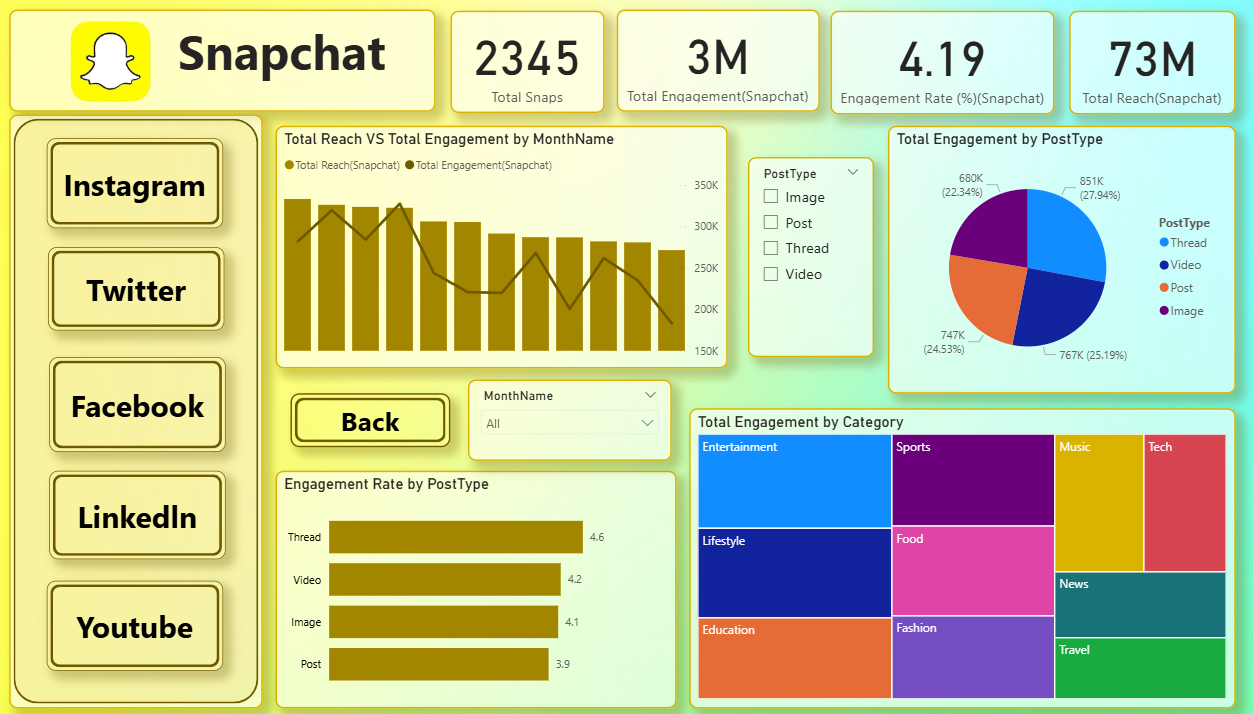

The dashboard page shown, as its layout file describes it:
{"tool":"powerbi","page":{"name":"Snapchat","canvas":[1400,800],"ordinal":3},"visuals":[{"type":"textbox","box":[12.3,13.7,474,113.7],"z":0},{"type":"image","box":[0,0,249.3,142.5],"z":1000},{"type":"card","fields":{"Values":["Snapchat_Data.Total Snaps"]},"box":[503.4,15.3,171.2,113.6],"z":2000},{"type":"card","fields":{"Values":["Snapchat_Data.Total Engagement(Snapchat)"]},"box":[688.1,13.6,225.4,113.6],"z":3000},{"type":"card","fields":{"Values":["Snapchat_Data.Engagement Rate (%)(Snapchat)"]},"box":[925.4,15.3,249.2,115.3],"z":4000},{"type":"card","fields":{"Values":["Snapchat_Data.Total Reach(Snapchat)"]},"box":[1189.8,15.3,184.7,115.3],"z":5000},{"type":"pieChart","title":"Total Engagement by PostType","fields":{"Category":["Snapchat_Data.PostType"],"Y":["Snapchat_Data.Total Engagement(Snapchat)"]},"box":[988.9,143.1,386.1,297.2],"z":6000},{"type":"treemap","title":"Total Engagement by Category","fields":{"Group":["Snapchat_Data.Category"],"Values":["Snapchat_Data.Total Engagement(Snapchat)"]},"box":[768.1,456.9,606.9,333.3],"z":7000},{"type":"lineClusteredColumnComboChart","title":"Total Reach VS Total Engagement by MonthName","fields":{"Category":["Snapchat_Data.MonthName"],"Y":["Snapchat_Data.Total Reach(Snapchat)"],"Y2":["Snapchat_Data.Total Engagement(Snapchat)"]},"box":[308.3,143.1,502.8,269.4],"z":8000},{"type":"clusteredBarChart","title":"Engagement Rate  by PostType","fields":{"Category":["Snapchat_Data.PostType"],"Y":["Snapchat_Data.Engagement Rate (%)(Snapchat)"]},"box":[308.3,526.4,445.8,263.9],"z":9000},{"type":"slicer","fields":{"Values":["Snapchat_Data.MonthName"]},"box":[522.2,425,226.4,90.3],"z":10000},{"type":"slicer","fields":{"Values":["Snapchat_Data.PostType"]},"box":[833.3,177.8,140.3,222.2],"z":11000},{"type":"shape","box":[12.5,130.6,281.9,659.7],"z":12000},{"type":"actionButton","box":[54.2,156.9,195.8,100],"z":13000},{"type":"actionButton","box":[55.6,277.8,195.8,93.1],"z":14000},{"type":"actionButton","box":[56.9,400,195.8,105.6],"z":15000},{"type":"actionButton","box":[56.9,526.4,195.8,98.6],"z":16000},{"type":"actionButton","box":[54.2,648.6,195.8,100],"z":17000},{"type":"actionButton","box":[325,440.3,177.8,59.7],"z":18000}]}

Visuals, with their boxes in screenshot pixels (x1, y1, x2, y2), scaled from the page's 1400x800 canvas onto the 1253x714 screenshot:
textbox: (left=11, top=12, right=435, bottom=114)
image: (left=0, top=0, right=223, bottom=127)
card - Snapchat_Data.Total Snaps: (left=451, top=14, right=604, bottom=115)
card - Snapchat_Data.Total Engagement(Snapchat): (left=616, top=12, right=818, bottom=114)
card - Snapchat_Data.Engagement Rate (%)(Snapchat): (left=828, top=14, right=1051, bottom=117)
card - Snapchat_Data.Total Reach(Snapchat): (left=1065, top=14, right=1230, bottom=117)
"Total Engagement by PostType" pieChart: (left=885, top=128, right=1231, bottom=393)
"Total Engagement by Category" treemap: (left=687, top=408, right=1231, bottom=705)
"Total Reach VS Total Engagement by MonthName" lineClusteredColumnComboChart: (left=276, top=128, right=726, bottom=368)
"Engagement Rate  by PostType" clusteredBarChart: (left=276, top=470, right=675, bottom=705)
slicer - Snapchat_Data.MonthName: (left=467, top=379, right=670, bottom=460)
slicer - Snapchat_Data.PostType: (left=746, top=159, right=871, bottom=357)
shape: (left=11, top=117, right=263, bottom=705)
actionButton: (left=49, top=140, right=224, bottom=229)
actionButton: (left=50, top=248, right=225, bottom=331)
actionButton: (left=51, top=357, right=226, bottom=451)
actionButton: (left=51, top=470, right=226, bottom=558)
actionButton: (left=49, top=579, right=224, bottom=668)
actionButton: (left=291, top=393, right=450, bottom=446)
